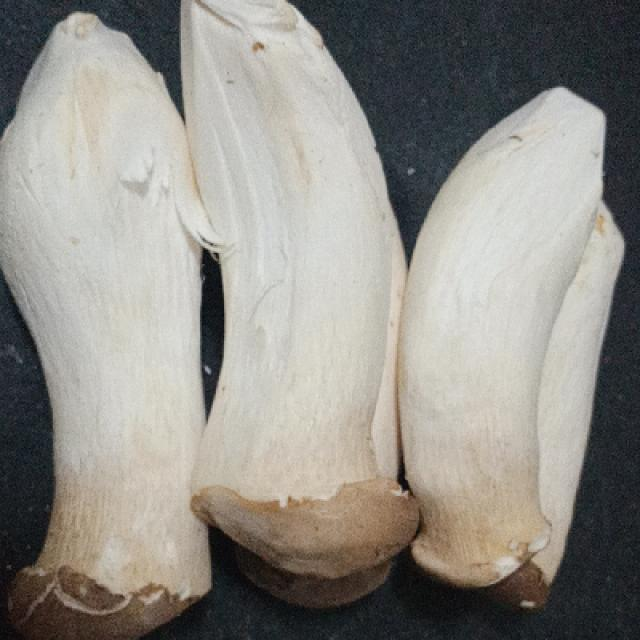Pleurotus eryngii: (0, 14, 221, 631), (182, 1, 415, 576), (401, 86, 640, 603)
